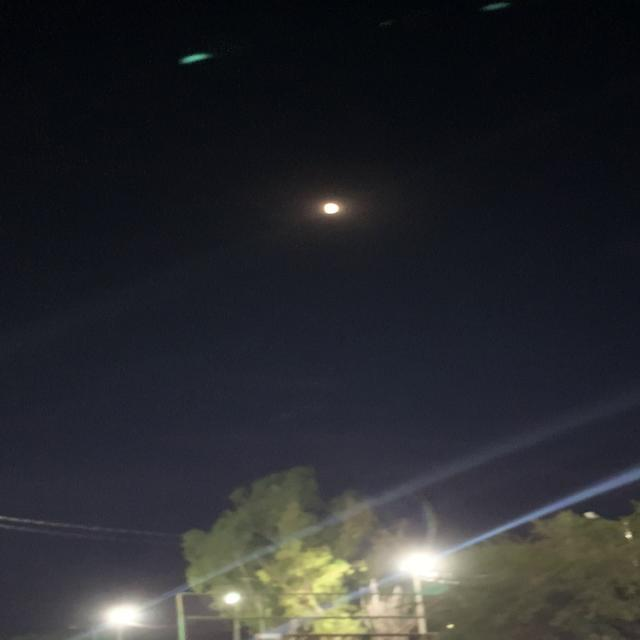moon: (306, 196, 362, 223)
